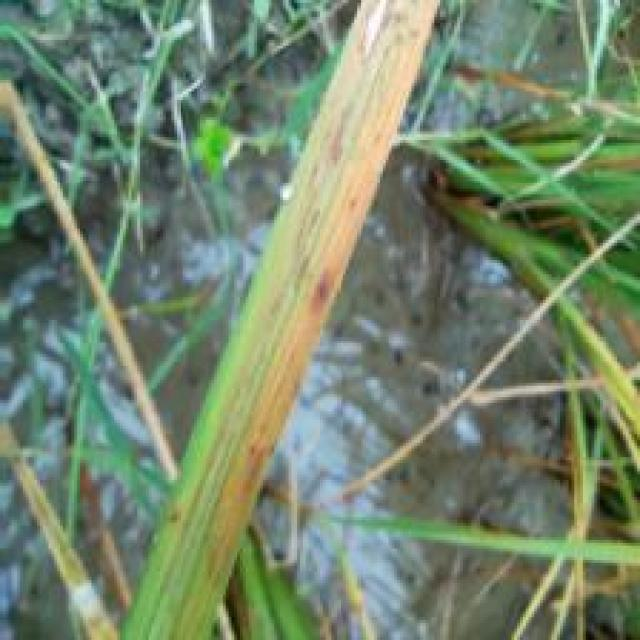Narrow_Brown_Leaf_Spot: (208, 0, 441, 576)
